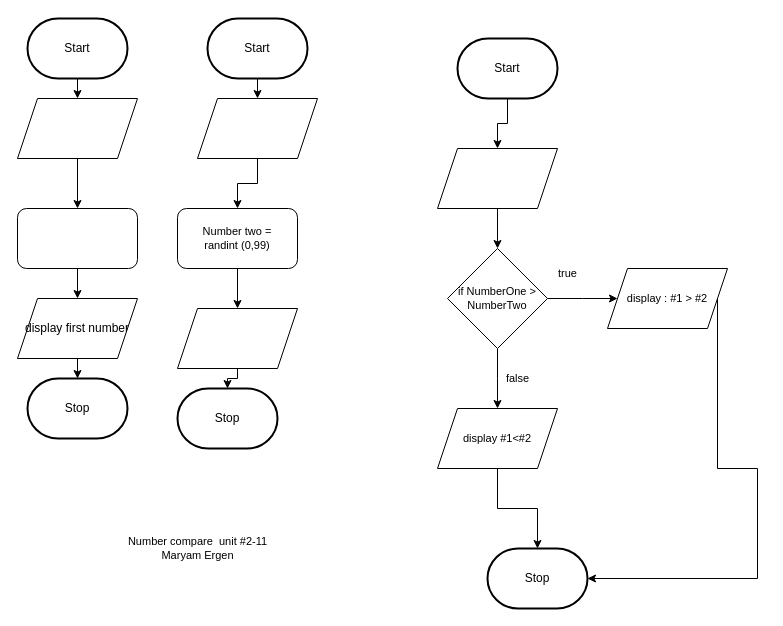
Some shapes in this 783 by 626 pixel diagram are drawn without their labels. The shapes that lost their labels are listed below. From the top down, each one's centre as x and y in pixels, then its label:
pixel 77 128: Button A is pressed
pixel 257 128: button B is pressed
pixel 497 178: shake microbit
pixel 77 238: numberOne = randint(0,99)
pixel 237 338: display second number
